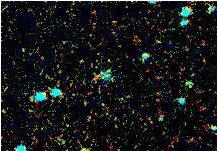star: (142, 26, 172, 56)
